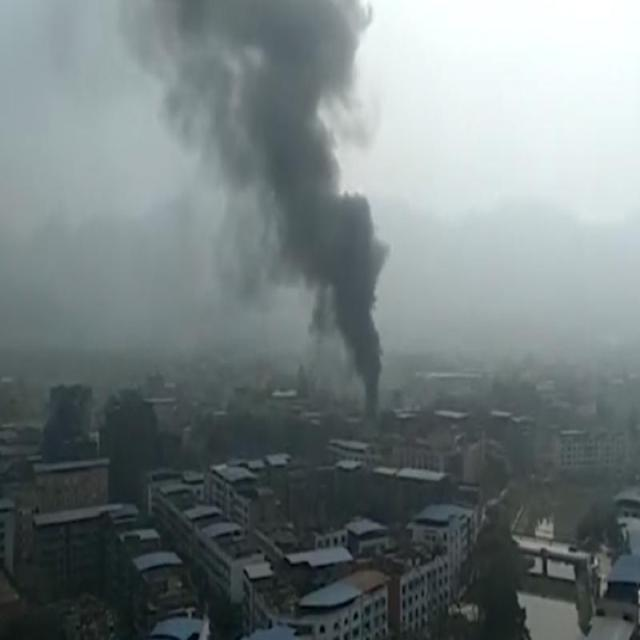Smoke: (116, 1, 390, 424)
